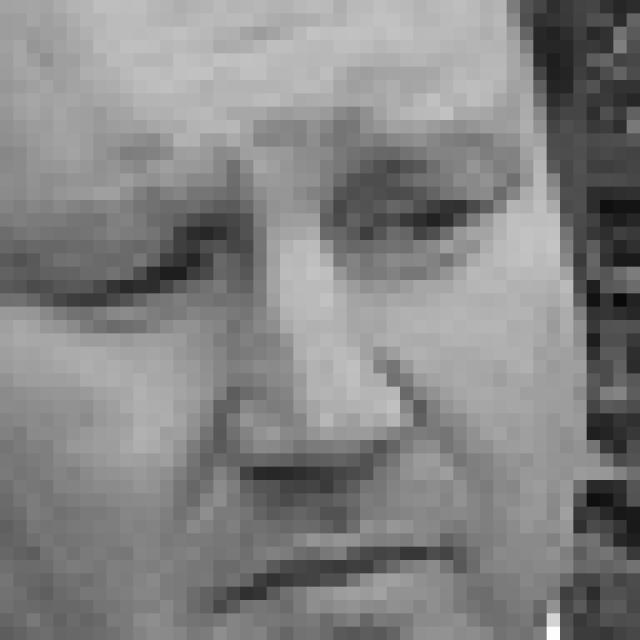sad: (51, 111, 526, 640)
